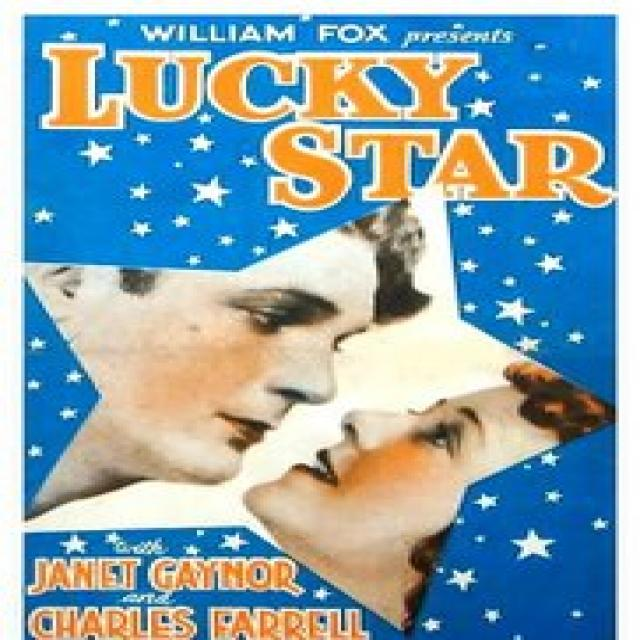movie-judul: (43, 35, 615, 211)
picture: (25, 17, 610, 640)
